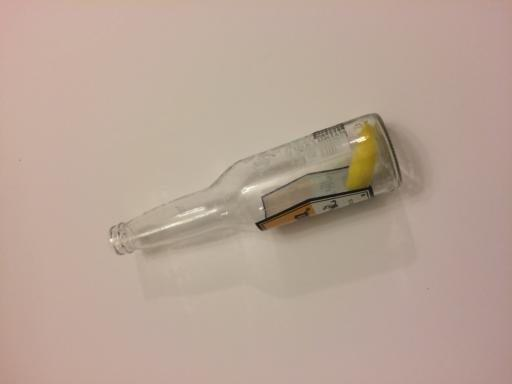botolkaca: (108, 112, 403, 256)
